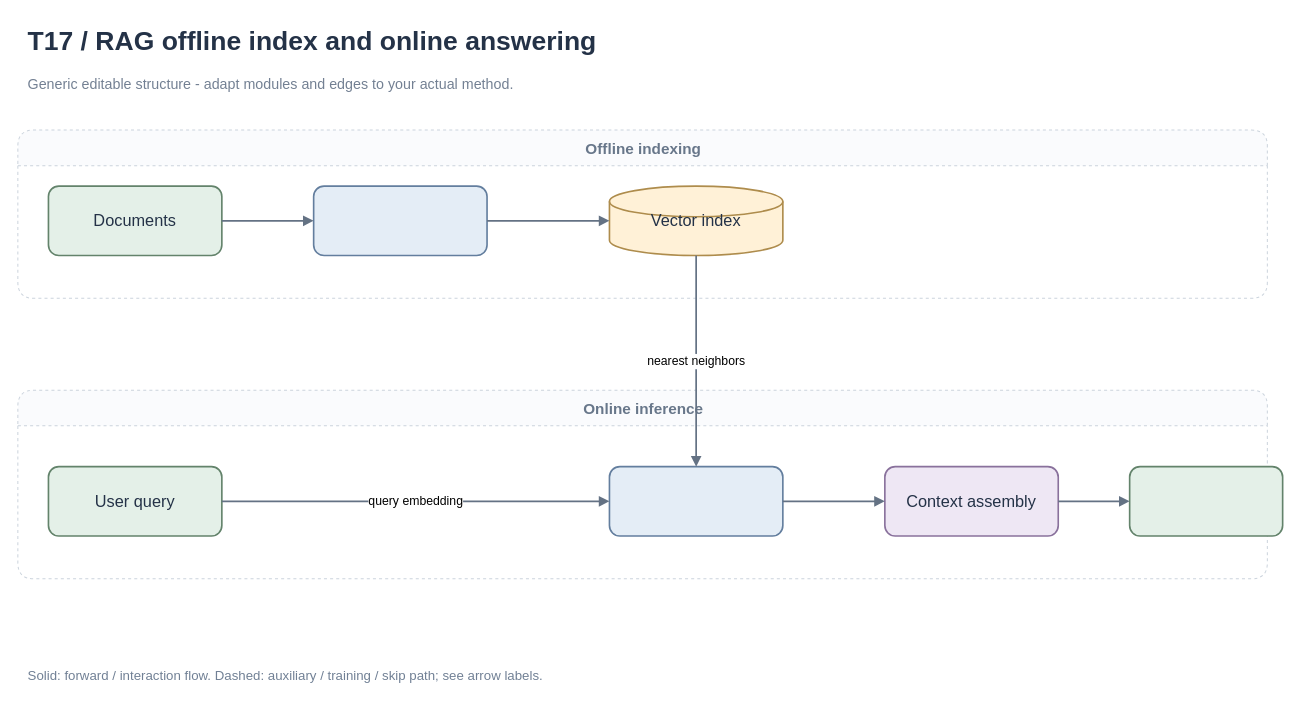
The diagram is 1302 pixels wide and 709 high, and some of its shapes have lost their labels. The centre of each missing label's shape, as x and y in pixels:
"Chunk + embed" goes at pixel 399 220.
"LLM answer" goes at pixel 1205 500.
"Retrieve top-k" goes at pixel 695 500.
